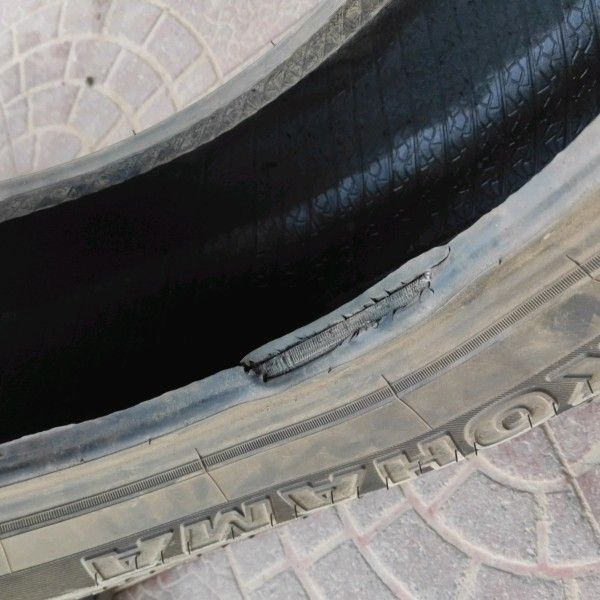bead_damage: (233, 234, 461, 391)
